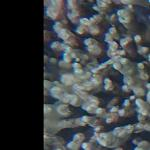dead: (48, 9, 144, 148)
